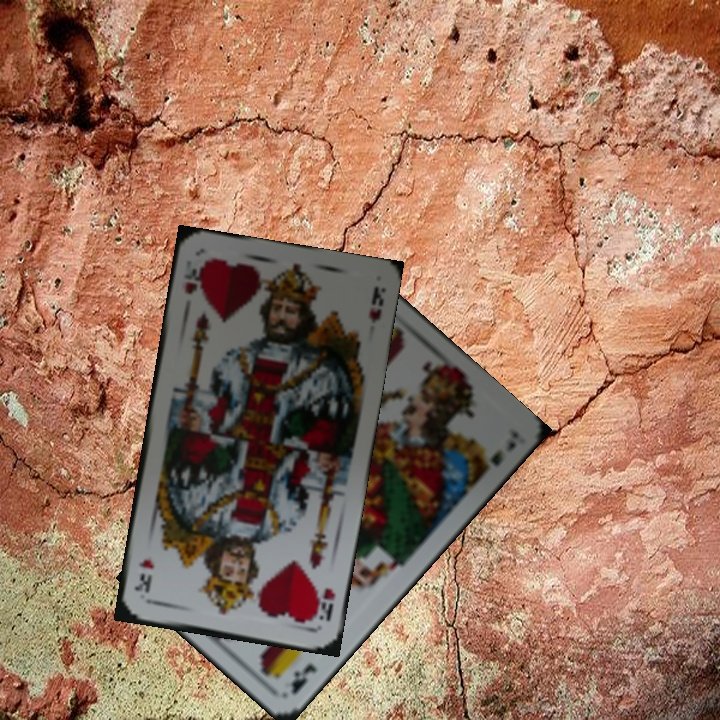EK: (287, 659, 320, 697)
HK: (308, 584, 338, 626), (179, 255, 207, 297)
